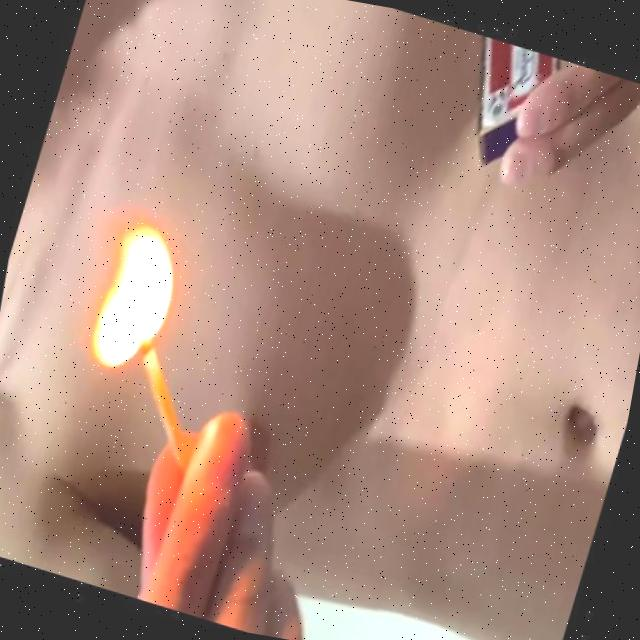fire: (58, 192, 198, 388)
